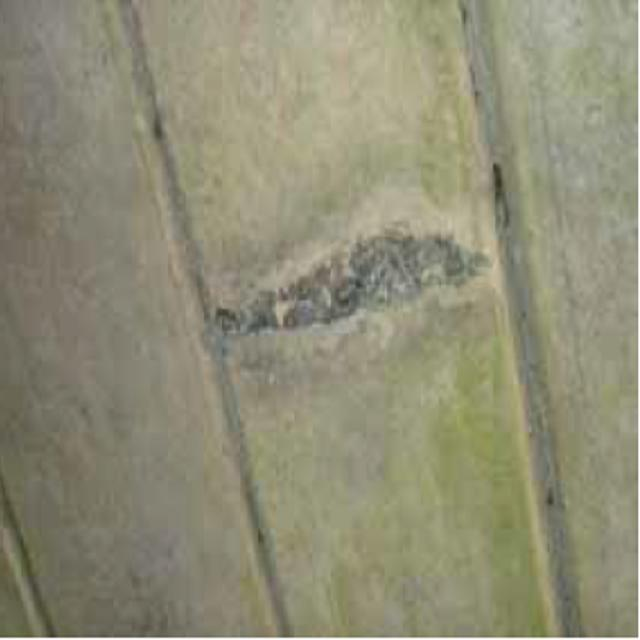spalling: (202, 213, 494, 330)
